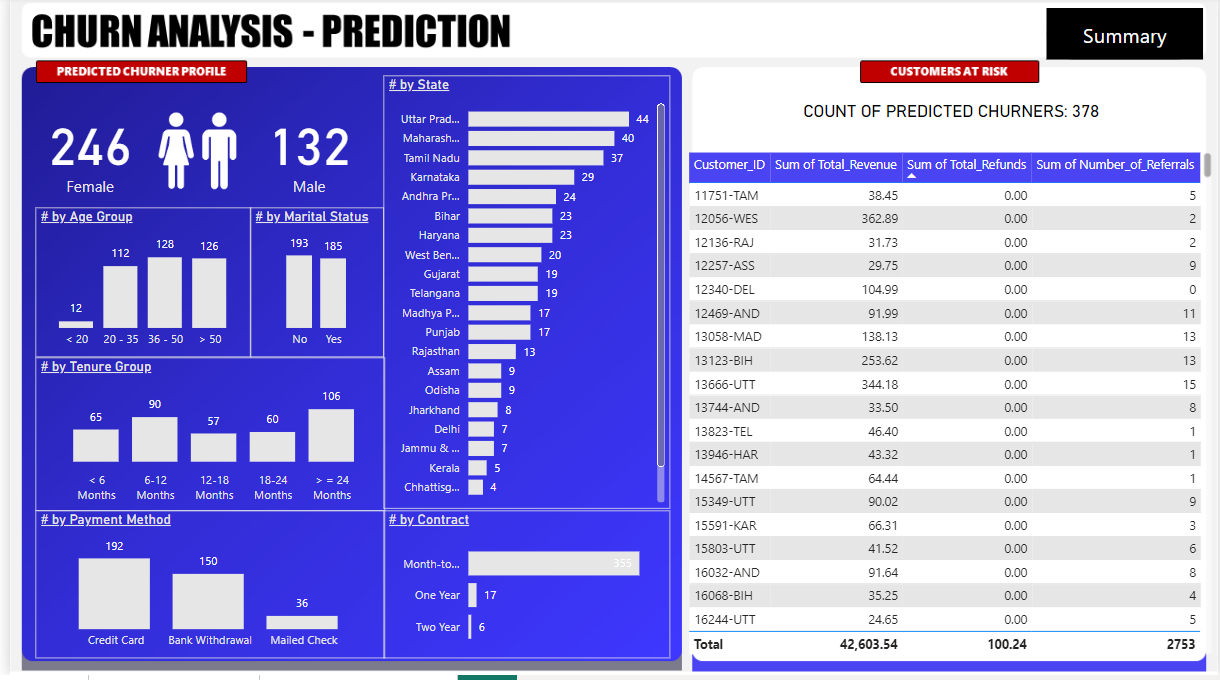

What the dashboard file says about the page in this screenshot:
{"tool":"powerbi","page":{"name":"Churn Prediction","canvas":[1280,720],"ordinal":2},"visuals":[{"type":"tableEx","fields":{"Values":["Prediction_Analysis.Customer_ID","Sum(Prediction_Analysis.Total_Revenue)","Sum(Prediction_Analysis.Total_Refunds)","Sum(Prediction_Analysis.Number_of_Referrals)"]},"box":[714.3,160.6,565,542.4],"z":0},{"type":"clusteredColumnChart","title":"# by Age Group","fields":{"Category":["mapping_AgeGrp.Age Group"],"Y":["CountNonNull(Prediction_Analysis.Customer_ID)"]},"box":[26.5,224.9,228.7,158.7],"z":1000},{"type":"clusteredColumnChart","title":"# by Marital Status","fields":{"Y":["CountNonNull(Prediction_Analysis.Customer_ID)"],"Category":["Prediction_Analysis.Married"]},"box":[255.1,224.9,141.7,158.7],"z":2000},{"type":"clusteredColumnChart","title":"# by Tenure Group","fields":{"Y":["CountNonNull(Prediction_Analysis.Customer_ID)"],"Category":["mapping_TenureGrp.Tenure Group"]},"box":[26.5,383.6,370.4,162.5],"z":3000},{"type":"clusteredBarChart","title":"# by Contract","fields":{"Category":["Prediction_Analysis.Contract"],"Y":["CountNonNull(Prediction_Analysis.Customer_ID)"]},"box":[396.9,546.1,304.3,156.9],"z":4000},{"type":"clusteredColumnChart","title":"# by Payment Method","fields":{"Category":["Prediction_Analysis.Payment_Method"],"Y":["CountNonNull(Prediction_Analysis.Customer_ID)"]},"box":[26.5,546.1,370.4,156.9],"z":5000},{"type":"clusteredBarChart","title":"# by State","fields":{"Category":["Prediction_Analysis.State"],"Y":["CountNonNull(Prediction_Analysis.Customer_ID)"]},"box":[396.9,85,304.3,459.2],"z":6000},{"type":"card","fields":{"Values":["tbl_Measures.Count Predicted Churner"]},"box":[26.5,102,115.3,122.8],"z":7000},{"type":"card","fields":{"Values":["tbl_Measures.Title Predicted Churner"]},"box":[823.9,85,347.7,75.6],"z":8000},{"type":"image","box":[141.7,102,113.4,122.8],"z":9000},{"type":"card","fields":{"Values":["tbl_Measures.Count Predicted Churner"]},"box":[255.1,102,124.7,122.8],"z":10000},{"type":"shape","box":[1099.9,13.2,166.3,54.8],"z":11000}]}

Visuals, with their boxes in screenshot pixels (x1, y1, x2, y2), scaled from the page's 1280x720 canvas onto the 1220x680 screenshot:
tableEx - Prediction_Analysis.Customer_ID x Sum(Prediction_Analysis.Total_Revenue): {"left": 681, "top": 152, "right": 1219, "bottom": 664}
"# by Age Group" clusteredColumnChart: {"left": 25, "top": 212, "right": 243, "bottom": 362}
"# by Marital Status" clusteredColumnChart: {"left": 243, "top": 212, "right": 378, "bottom": 362}
"# by Tenure Group" clusteredColumnChart: {"left": 25, "top": 362, "right": 378, "bottom": 516}
"# by Contract" clusteredBarChart: {"left": 378, "top": 516, "right": 668, "bottom": 664}
"# by Payment Method" clusteredColumnChart: {"left": 25, "top": 516, "right": 378, "bottom": 664}
"# by State" clusteredBarChart: {"left": 378, "top": 80, "right": 668, "bottom": 514}
card - tbl_Measures.Count Predicted Churner: {"left": 25, "top": 96, "right": 135, "bottom": 212}
card - tbl_Measures.Title Predicted Churner: {"left": 785, "top": 80, "right": 1117, "bottom": 152}
image: {"left": 135, "top": 96, "right": 243, "bottom": 212}
card - tbl_Measures.Count Predicted Churner: {"left": 243, "top": 96, "right": 362, "bottom": 212}
shape: {"left": 1048, "top": 12, "right": 1207, "bottom": 64}
